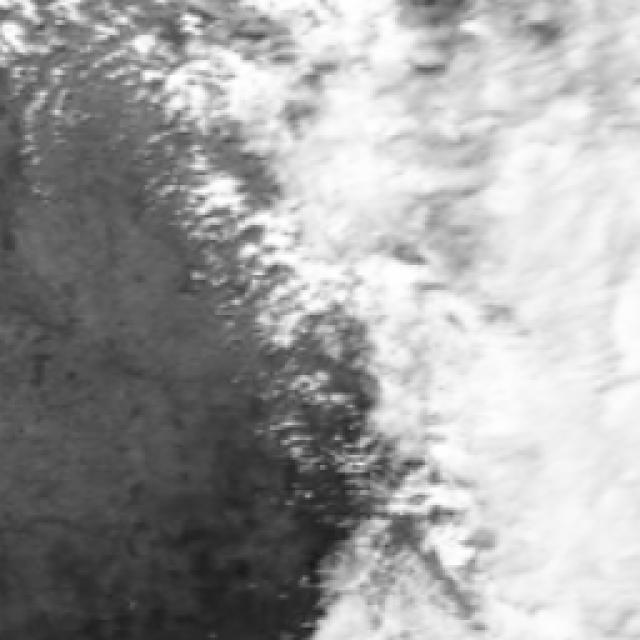CB: (451, 75, 640, 640)
